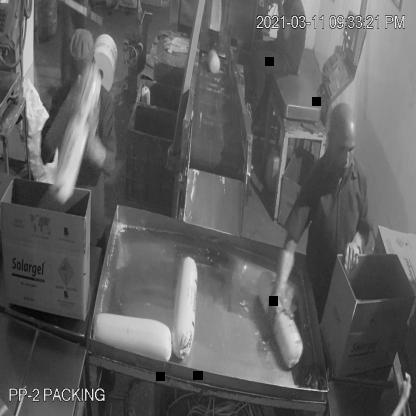glove: (261, 242, 301, 346)
